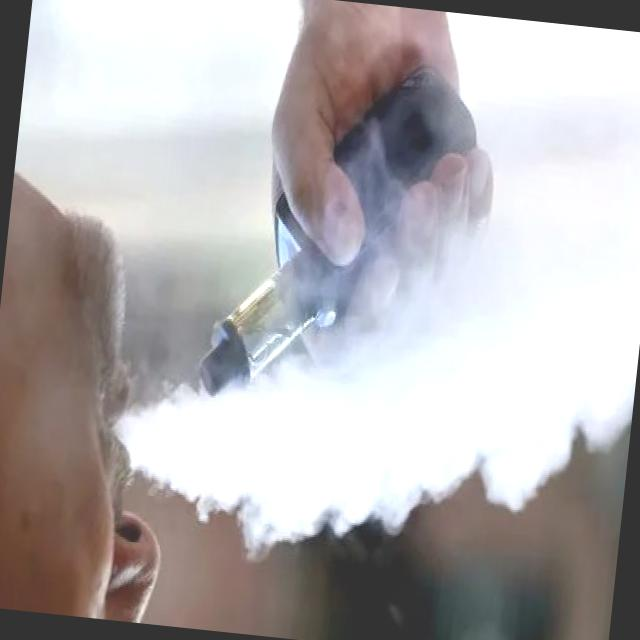cigarette: (188, 25, 488, 428)
